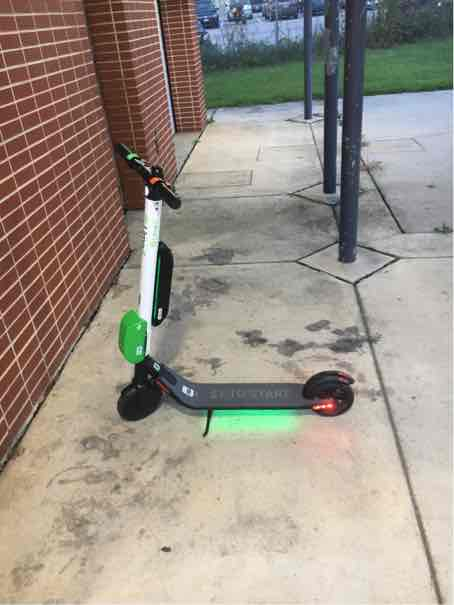scooter: (136, 112, 435, 360)
